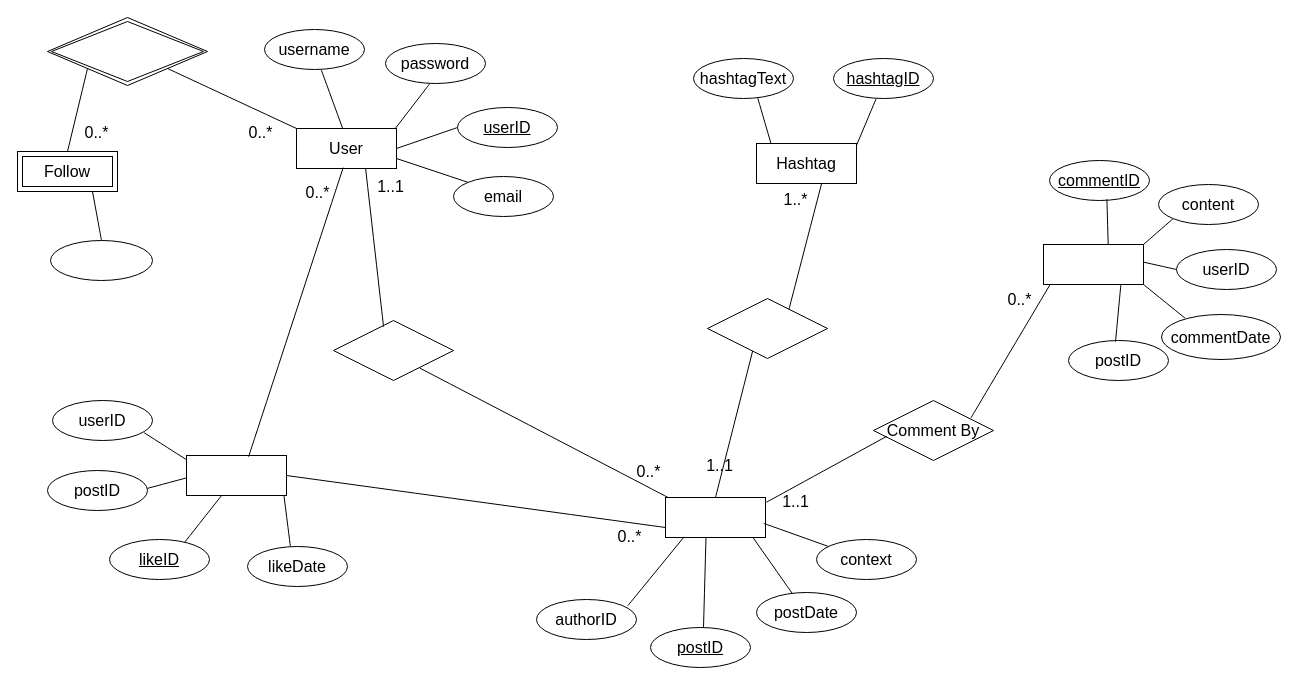
This 1298x685 diagram has some shape labels left out. The box of each missing label's shape, as (x1, y1, x2, y2) in pixels:
Comment: (1042, 244, 1144, 284)
Create: (332, 320, 454, 380)
Followed By: (46, 16, 208, 86)
followerID: (50, 240, 152, 280)
Like: (186, 454, 286, 496)
Posts: (664, 496, 766, 538)
Tagged: (706, 298, 828, 358)
